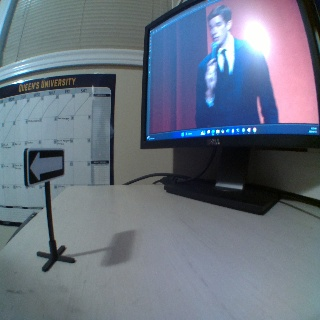sign_oneway_left: (22, 148, 64, 184)
